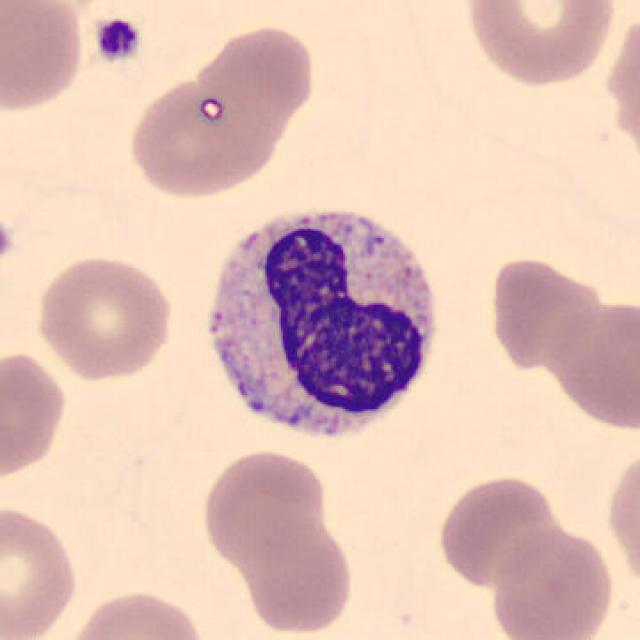Neutrophil: (192, 194, 452, 458)
Platelets: (91, 16, 144, 67), (0, 213, 16, 270)
RBC: (123, 72, 286, 203), (30, 250, 178, 384), (236, 506, 358, 640), (197, 446, 327, 568), (434, 470, 565, 590), (485, 523, 618, 640), (190, 19, 322, 129), (460, 0, 620, 90), (483, 252, 602, 370), (540, 306, 640, 431), (0, 499, 82, 640), (0, 0, 89, 116), (0, 347, 71, 485), (60, 585, 210, 640), (599, 6, 640, 170), (602, 441, 640, 596)
